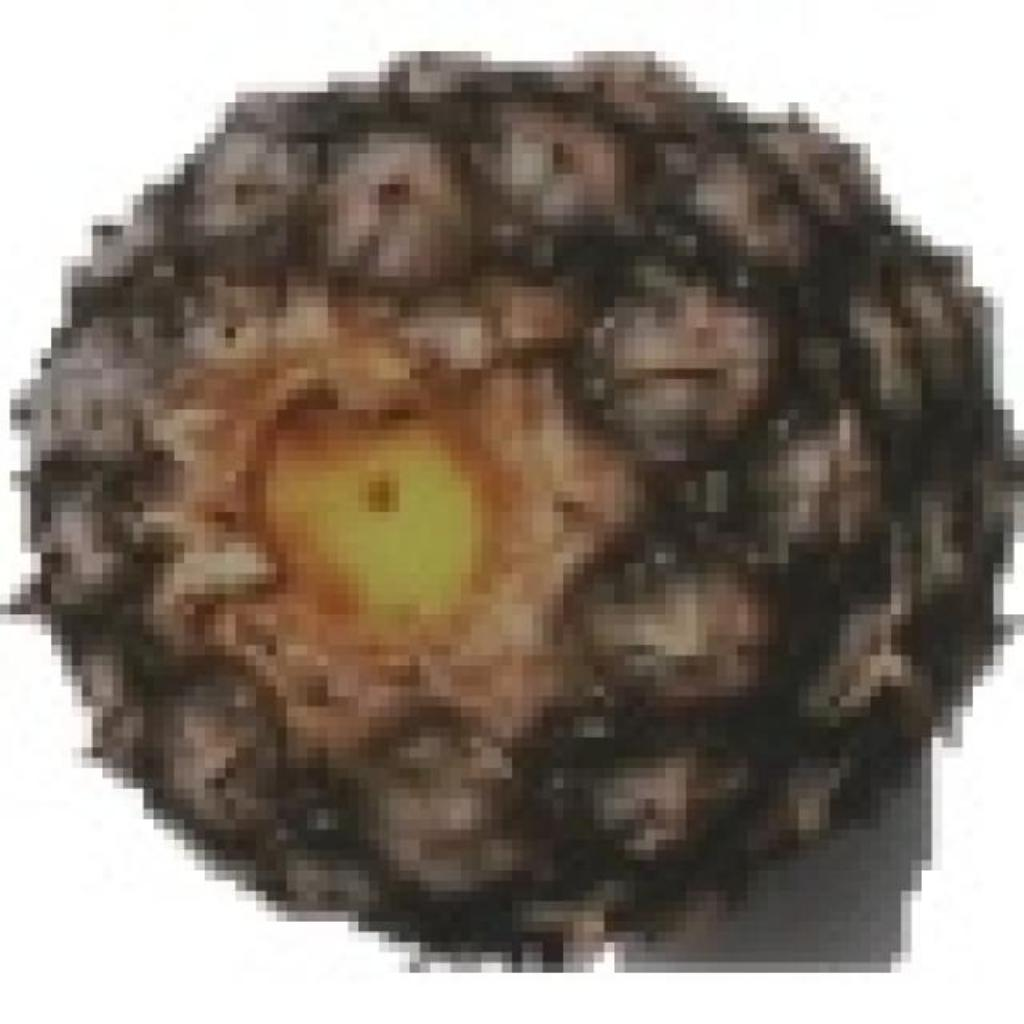pineapple: (10, 41, 983, 932)
